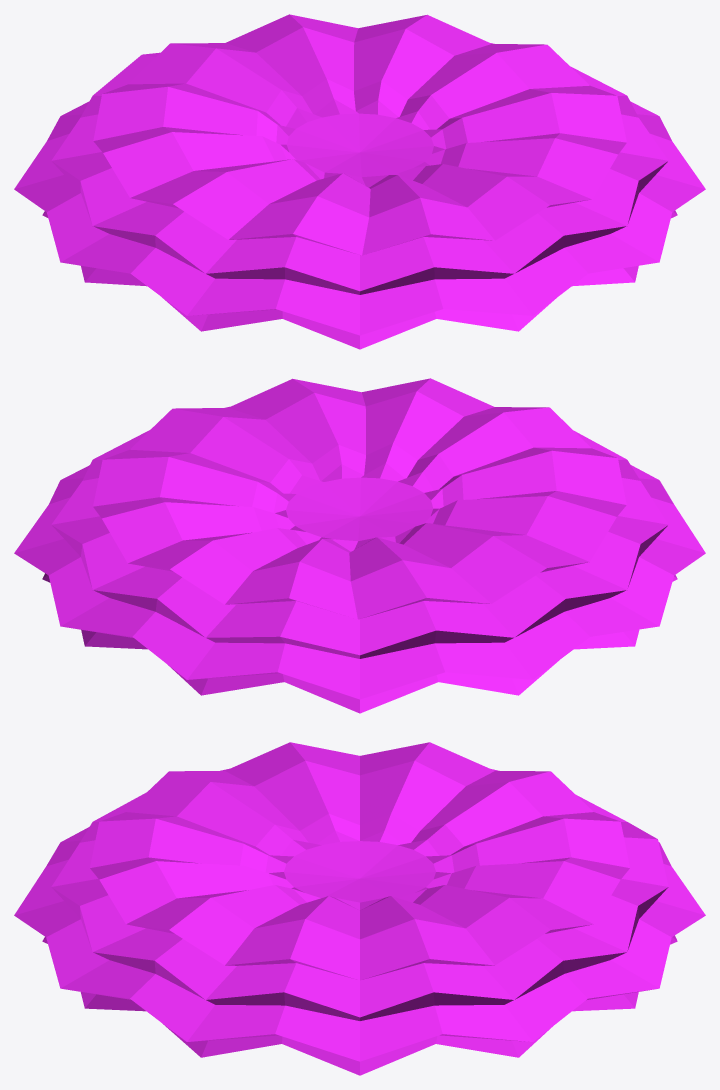
The model's file is BallerinaToTo.fbx.
3 views of the same model, one above another, from view 1: azimuth 30°, elevation 25°; view 2: azimuth 150°, elevation 25°; view 3: azimuth 270°, elevation 25° (orthographic).
Parts seen in each view (by area): view 1: CharacterNude; view 2: CharacterNude; view 3: CharacterNude.
Boxes of the visible parts, box(x1,y1,x2,y2) form: CharacterNude: box(14, 14, 705, 349); CharacterNude: box(14, 378, 705, 713); CharacterNude: box(14, 742, 705, 1075).
Bounding box in the file's own units: 73.22 × 13.38 × 73.22.
